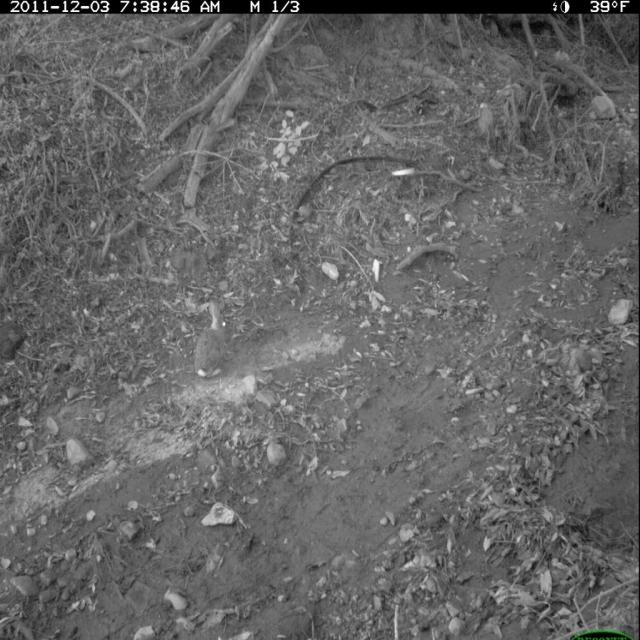rabbit: (190, 293, 244, 393)
